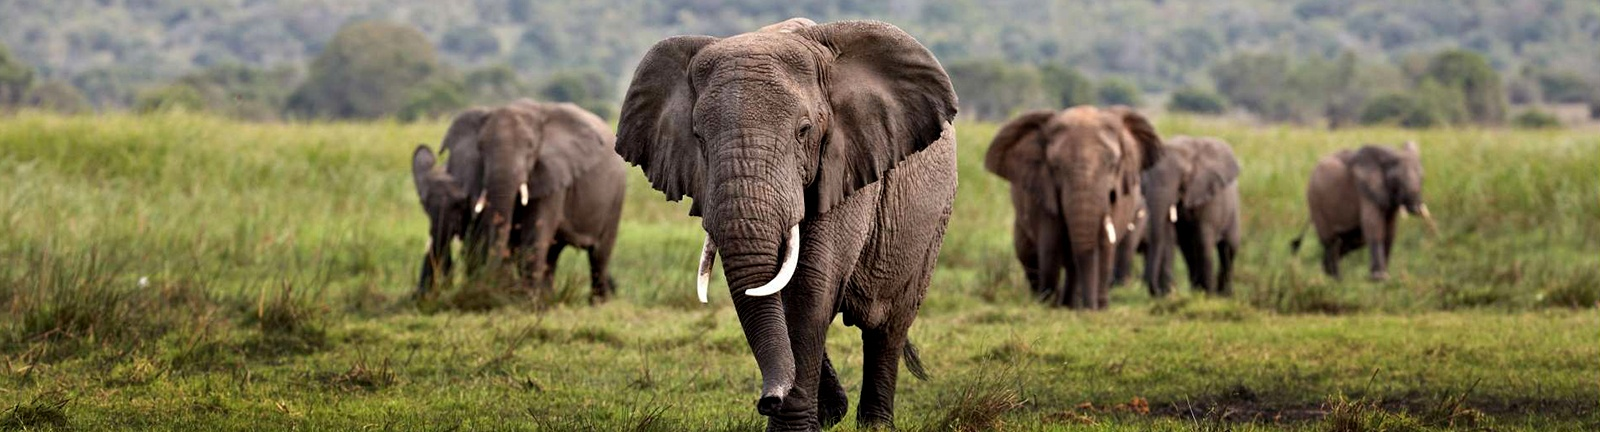elephant: (610, 17, 963, 432), (409, 74, 640, 323), (980, 99, 1170, 317), (1127, 134, 1248, 307), (1303, 133, 1439, 288)
